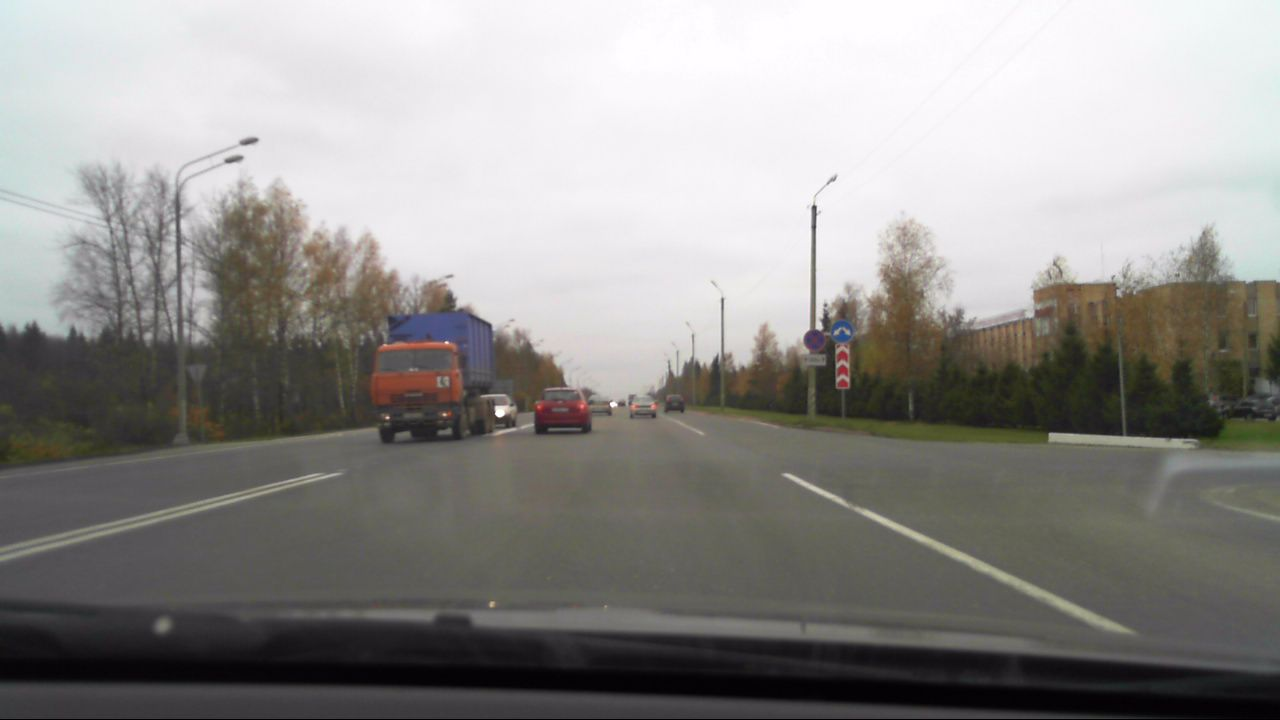No Parking: (802, 328, 825, 352)
